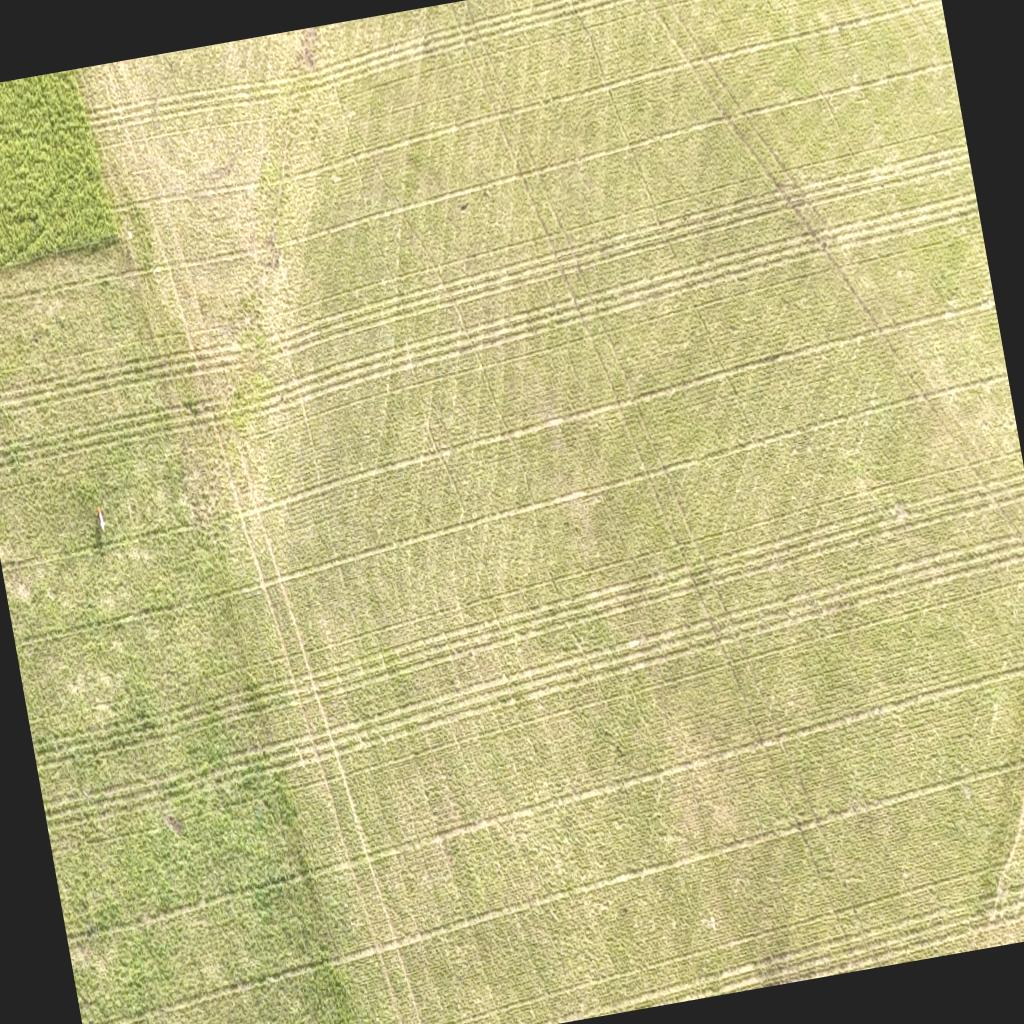cow: (92, 499, 110, 540)
